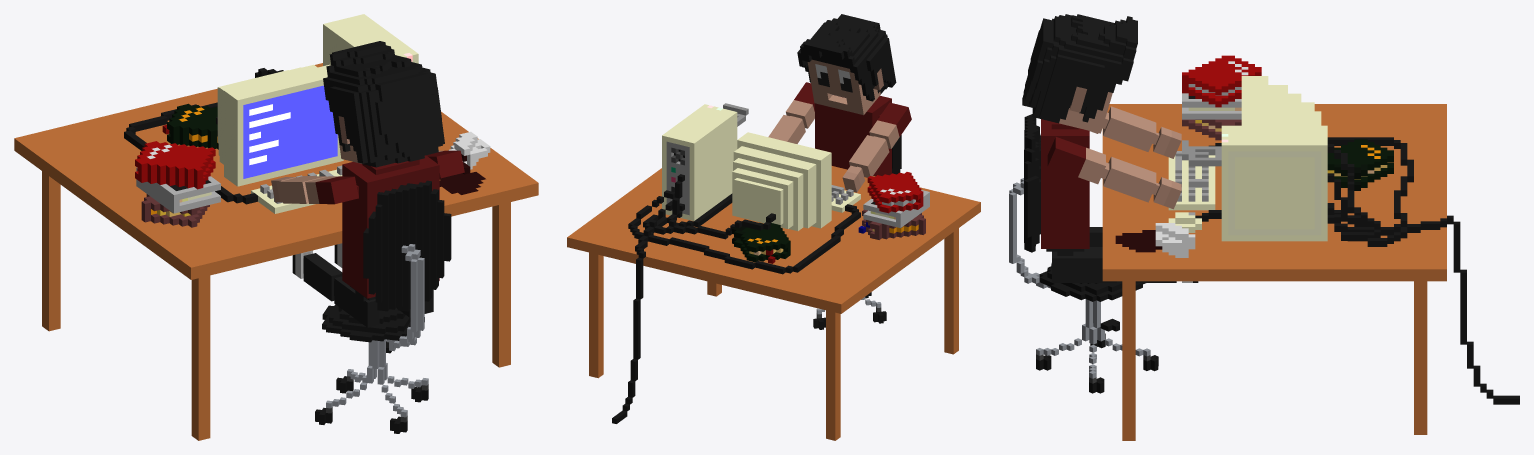
The picture shows the model from 3 angles, left to right: view 1: azimuth 30°, elevation 25°; view 2: azimuth 150°, elevation 25°; view 3: azimuth 270°, elevation 25°; orthographic projection. The views are drawn at different scales.
Visible parts, largest first — view 1: Computer_0, Characters-2005, Characters-2, Characters-2004, Characters-2001, Characters-2002; view 2: Computer_0, Characters-2005, Characters-2, Characters-2001, Characters-2002; view 3: Computer_0, Characters-2005, Characters-2, Characters-2002, Characters-2001, Characters-2003.
Part boxes in pixels (x1=…): Computer_0: x1=14, y1=14, x2=538, y2=440; Characters-2005: x1=323, y1=41, x2=444, y2=167; Characters-2: x1=342, y1=155, x2=439, y2=301; Characters-2004: x1=292, y1=250, x2=379, y2=327; Characters-2001: x1=271, y1=176, x2=358, y2=204; Characters-2002: x1=426, y1=150, x2=464, y2=178; Computer_0: x1=567, y1=103, x2=980, y2=440; Characters-2005: x1=797, y1=14, x2=896, y2=114; Characters-2: x1=815, y1=95, x2=891, y2=176; Characters-2001: x1=842, y1=102, x2=911, y2=192; Characters-2002: x1=768, y1=82, x2=814, y2=143; Computer_0: x1=1009, y1=55, x2=1519, y2=440; Characters-2005: x1=1022, y1=14, x2=1137, y2=133; Characters-2: x1=1041, y1=119, x2=1089, y2=255; Characters-2002: x1=1047, y1=137, x2=1181, y2=209; Characters-2001: x1=1090, y1=106, x2=1181, y2=158; Characters-2003: x1=1052, y1=247, x2=1198, y2=282.
Size of the model in its own units: 5.9 by 5.74 by 7.71.
Materials: 7 (2 with a texture image).
